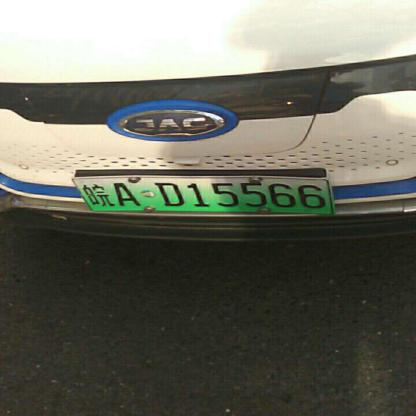lp: (72, 177, 332, 214)
